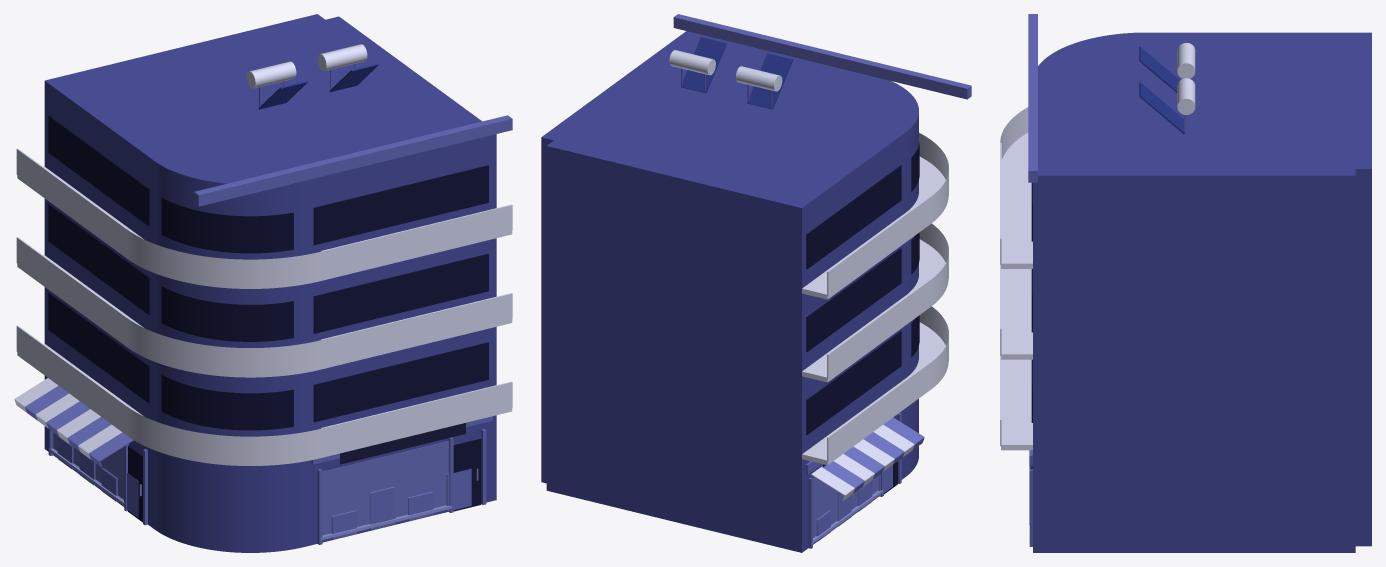
Rendered from bauhausCorner.glb.
The picture shows the model from 3 angles, left to right: view 1: azimuth 30°, elevation 25°; view 2: azimuth 150°, elevation 25°; view 3: azimuth 270°, elevation 25°; orthographic projection. The views are drawn at different scales.
Visible parts, largest first — view 1: body, balconyBand1, balconyBand2, balconyBand0, shopWindow (×2), window_0_x, window_1_x, window_2_x, roofEdge, shop, awningCloth, window_0_z (+6 smaller); view 2: body, balconyBand2, balconyBand0, balconyBand1, roofEdge, awningCloth, window_2_z, window_1_z, window_0_z, panel (×2), shop2, tank (×2) (+1 smaller); view 3: body, balconyBand2, balconyBand0, balconyBand1, roofEdge, panel (×2), tank (×2).
Part boxes in pixels (<box>): body: <box>44,14,496,552</box>; balconyBand1: <box>16,237,512,377</box>; balconyBand2: <box>16,148,512,288</box>; balconyBand0: <box>16,325,512,465</box>; shopWindow (×2): <box>52,432,448,535</box>; window_0_x: <box>313,342,488,422</box>; window_1_x: <box>313,253,488,333</box>; window_2_x: <box>313,165,488,245</box>; roofEdge: <box>194,115,512,206</box>; shop: <box>317,429,486,544</box>; awningCloth: <box>14,378,133,467</box>; window_0_z: <box>48,292,150,403</box>; body: <box>541,31,918,552</box>; balconyBand2: <box>802,133,948,299</box>; balconyBand0: <box>802,306,948,465</box>; balconyBand1: <box>802,223,948,382</box>; roofEdge: <box>673,14,971,99</box>; awningCloth: <box>811,417,924,500</box>; window_2_z: <box>806,165,901,269</box>; window_1_z: <box>806,248,901,351</box>; window_0_z: <box>806,331,901,434</box>; panel (×2): <box>680,37,793,109</box>; shop2: <box>808,413,901,548</box>; tank (×2): <box>669,50,782,91</box>; body: <box>1033,32,1371,552</box>; balconyBand2: <box>1000,107,1032,268</box>; balconyBand0: <box>1000,355,1032,450</box>; balconyBand1: <box>1000,265,1032,359</box>; roofEdge: <box>1028,14,1037,182</box>; panel (×2): <box>1139,46,1185,134</box>; tank (×2): <box>1177,43,1195,114</box>.
Size of the model in its own units: 12.4 by 14.53 by 11.53.
